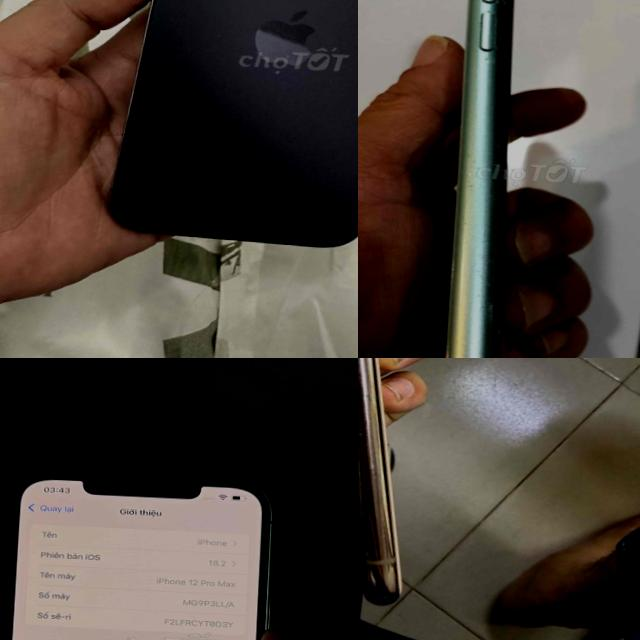scratch: (449, 248, 500, 358), (474, 0, 516, 111), (458, 150, 488, 215), (492, 142, 509, 162), (358, 426, 371, 439)
